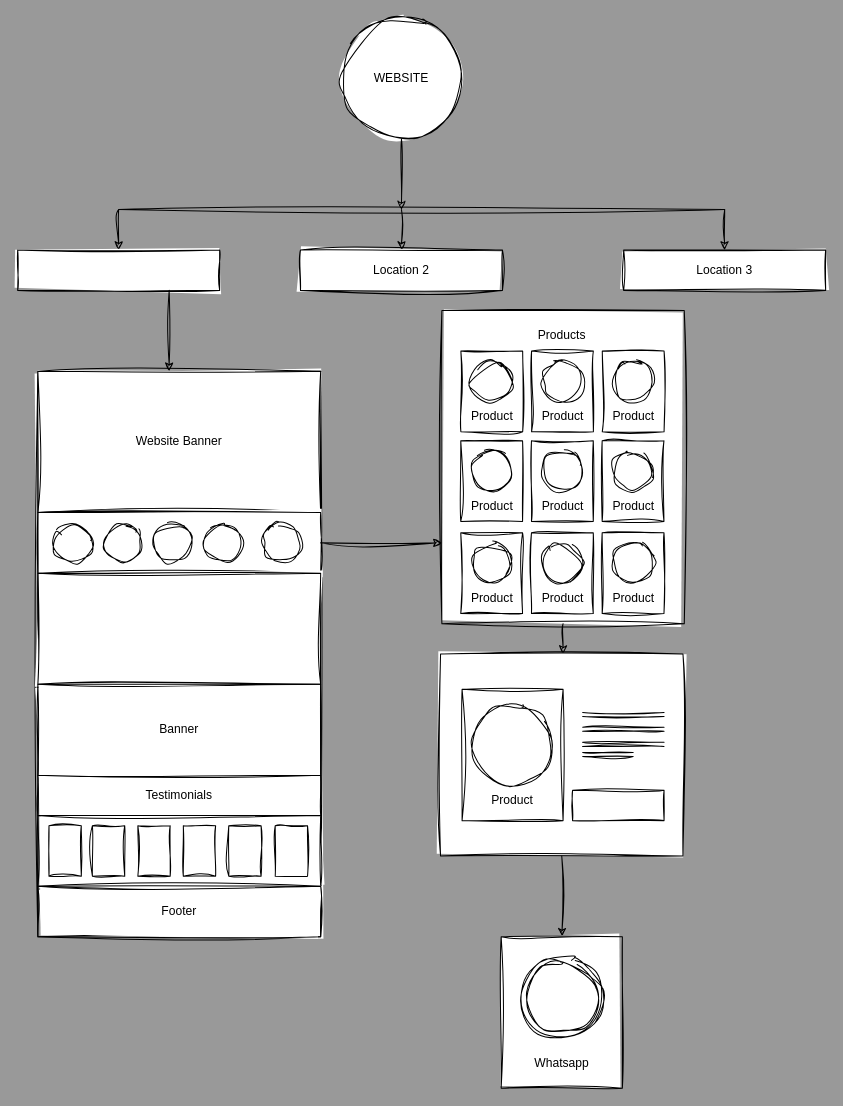
The diagram is 843 pixels wide and 1106 high, and some of its shapes have lost their labels. Each missing label, with the centre of its shape:
"Location 1" goes at point 118,269.
"Order Now" goes at point 618,805.
"Speciality" goes at point 179,628.
